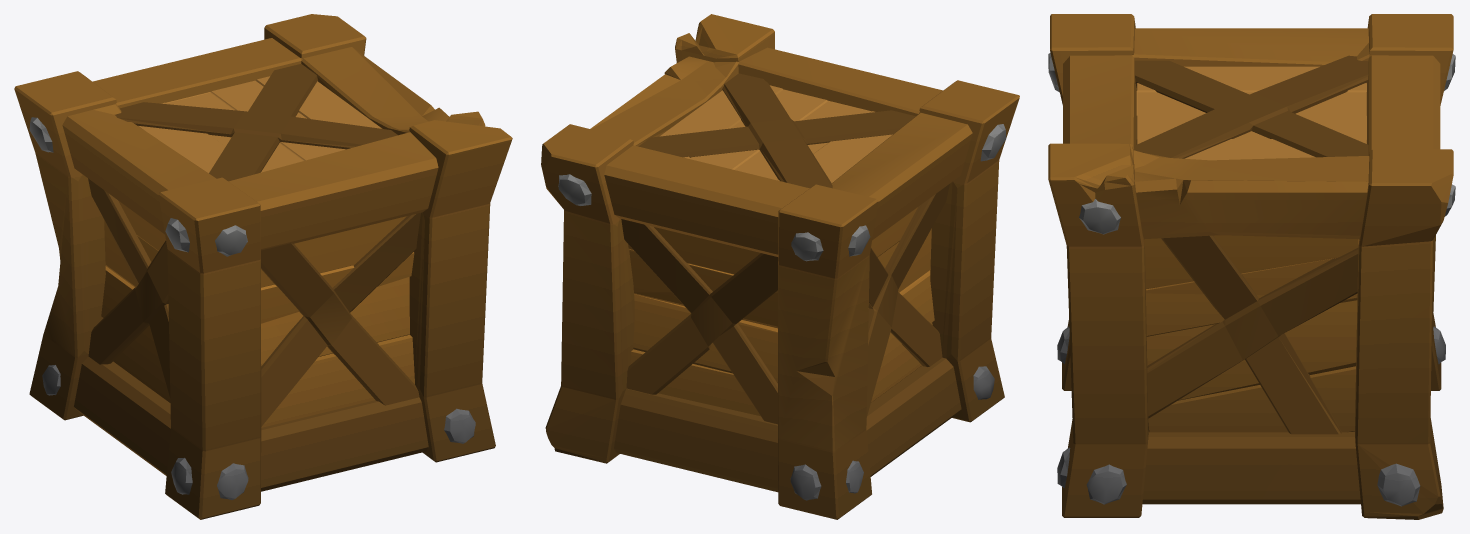
The model's file is ENV_Crate.fbx.
3 renders of one model, left to right at view 1: azimuth 30°, elevation 25°; view 2: azimuth 150°, elevation 25°; view 3: azimuth 270°, elevation 25°, orthographic. The views are drawn at different scales.
Parts seen in each view (by area): view 1: Crate; view 2: Crate; view 3: Crate.
Part boxes in pixels (<box>): Crate: <box>14,14,512,519</box>; Crate: <box>541,14,1019,519</box>; Crate: <box>1048,14,1455,519</box>.
Bounding box in the file's own units: 124 × 115 × 123.
